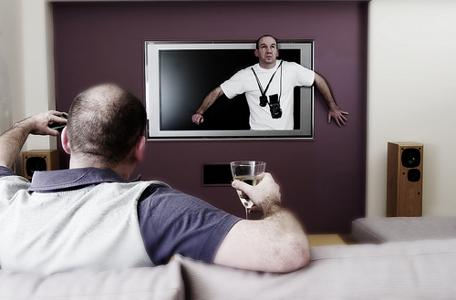person: (2, 83, 310, 274)
